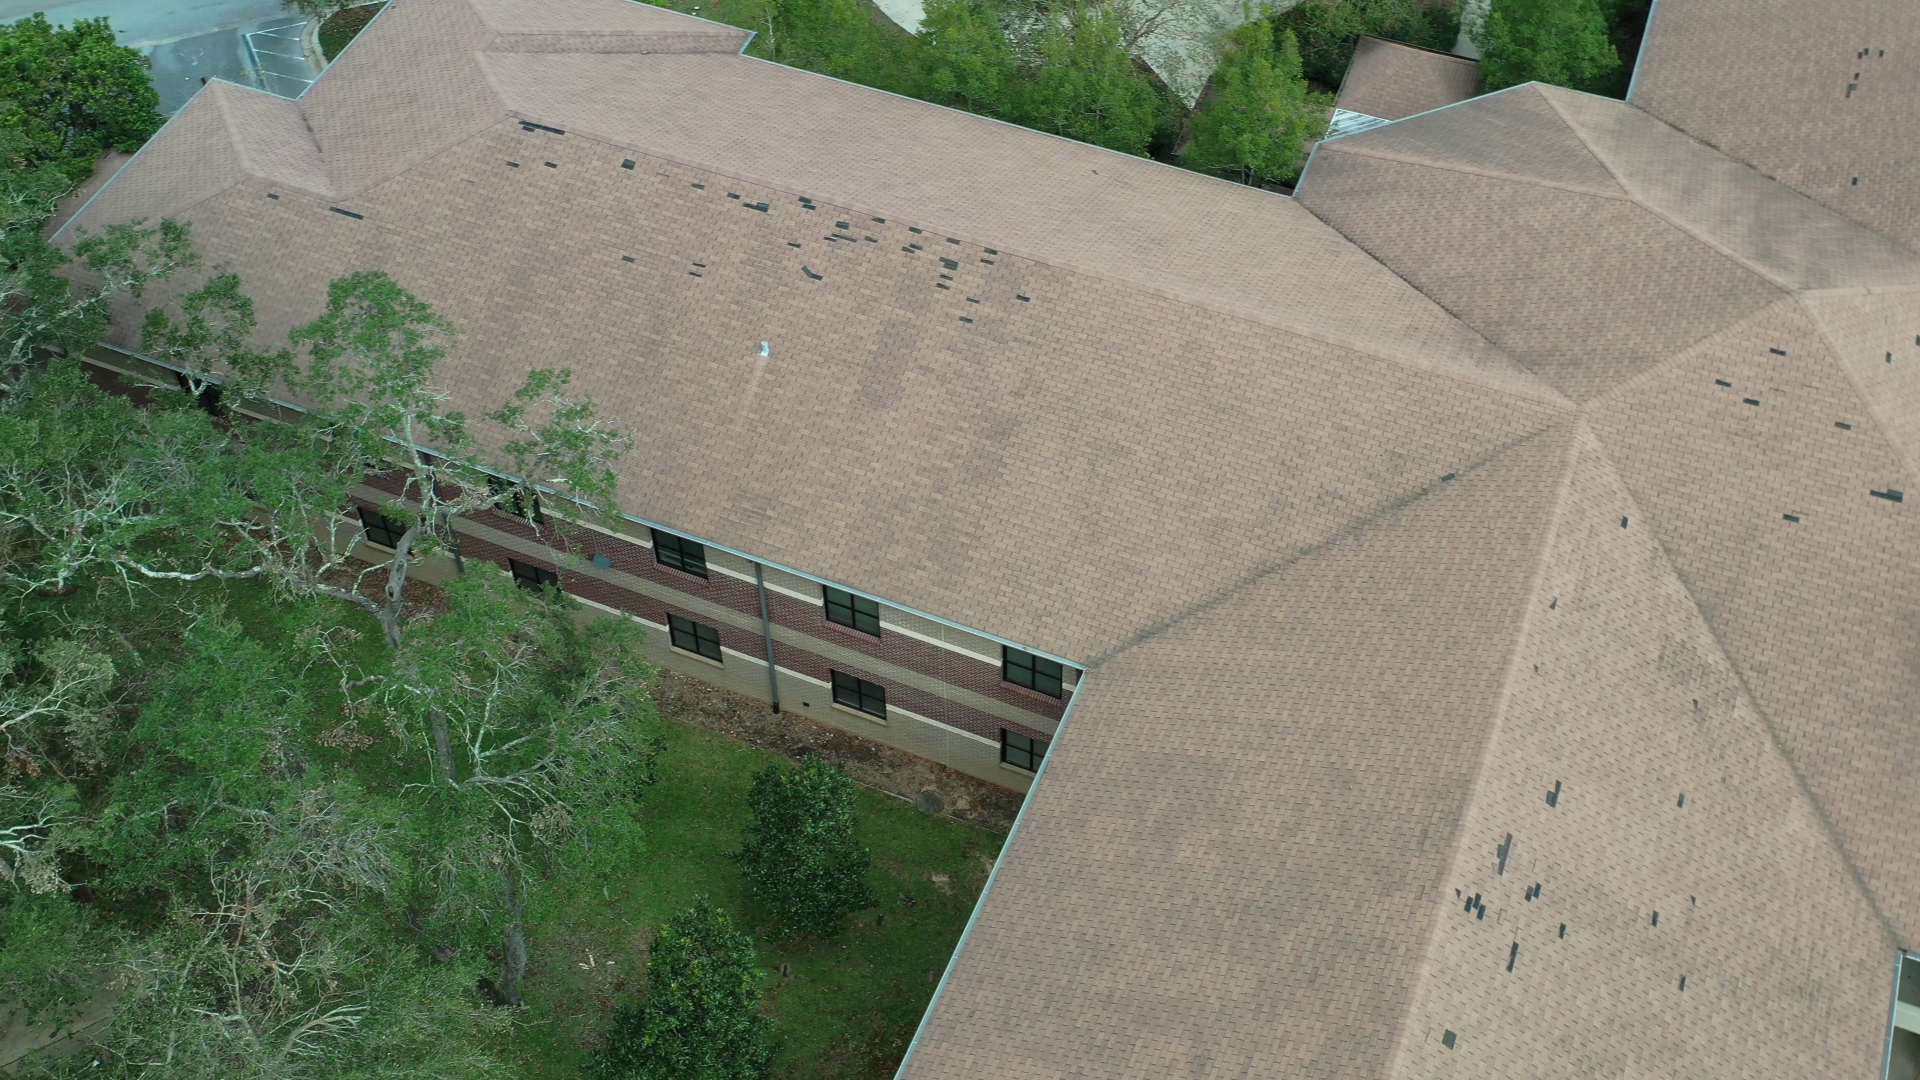Light: (621, 158, 1031, 324), (1456, 781, 1567, 973), (1652, 895, 1696, 992), (506, 120, 564, 167), (1844, 47, 1884, 98), (1714, 378, 1760, 407), (328, 206, 365, 222), (1869, 489, 1904, 504), (1441, 1030, 1458, 1052), (1782, 514, 1801, 524), (1836, 421, 1851, 431), (1676, 791, 1685, 808), (1770, 347, 1785, 356), (1619, 516, 1629, 529), (1884, 349, 1892, 364), (266, 193, 281, 200)
